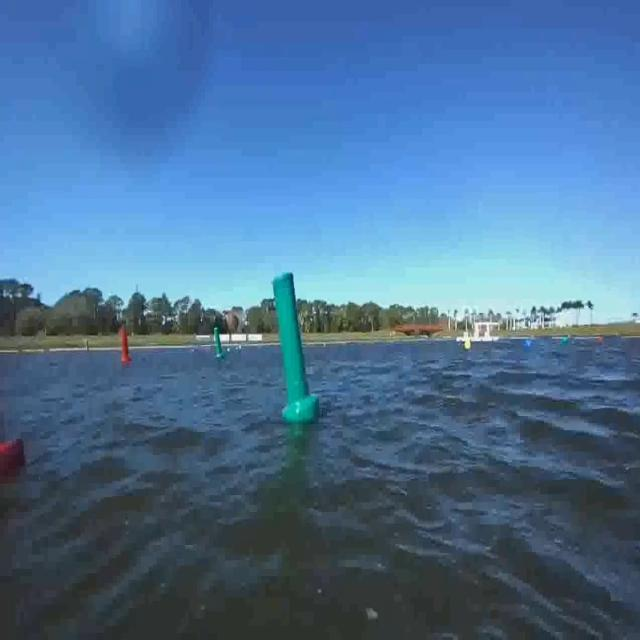blue-buoy: (524, 339, 533, 353)
green-column-buoy: (272, 269, 317, 424), (214, 328, 226, 361)
red-column-buoy: (118, 327, 131, 362)
yellow-buoy: (464, 339, 472, 353)
